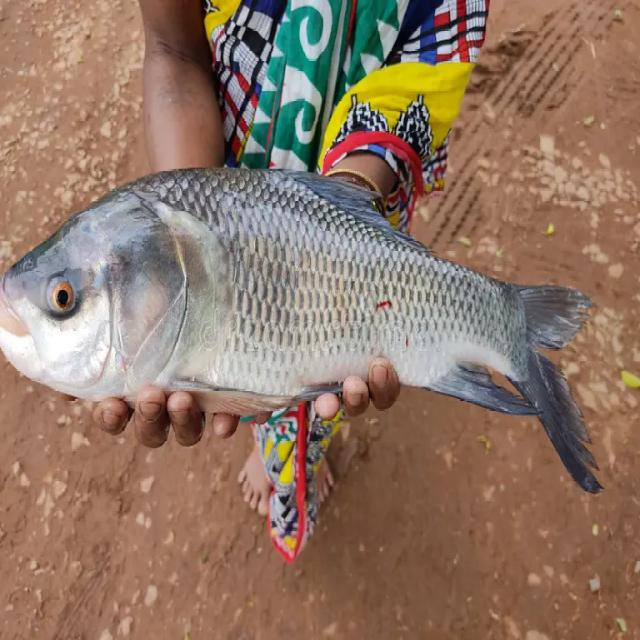Catla: (0, 169, 599, 491)
